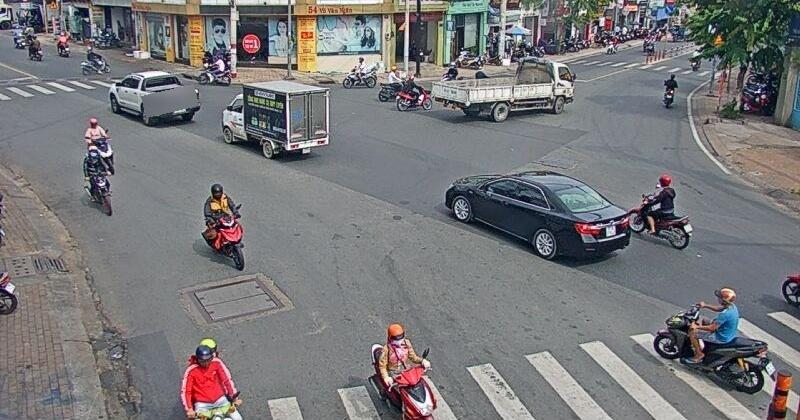xe hoi: (445, 169, 630, 261), (108, 70, 200, 125)
xe may: (652, 288, 776, 394), (371, 322, 437, 420), (630, 174, 693, 250), (201, 183, 244, 271), (82, 145, 112, 215), (84, 117, 115, 174), (395, 75, 432, 111), (342, 56, 376, 88)
xe tai: (431, 59, 575, 120), (220, 80, 328, 158)
